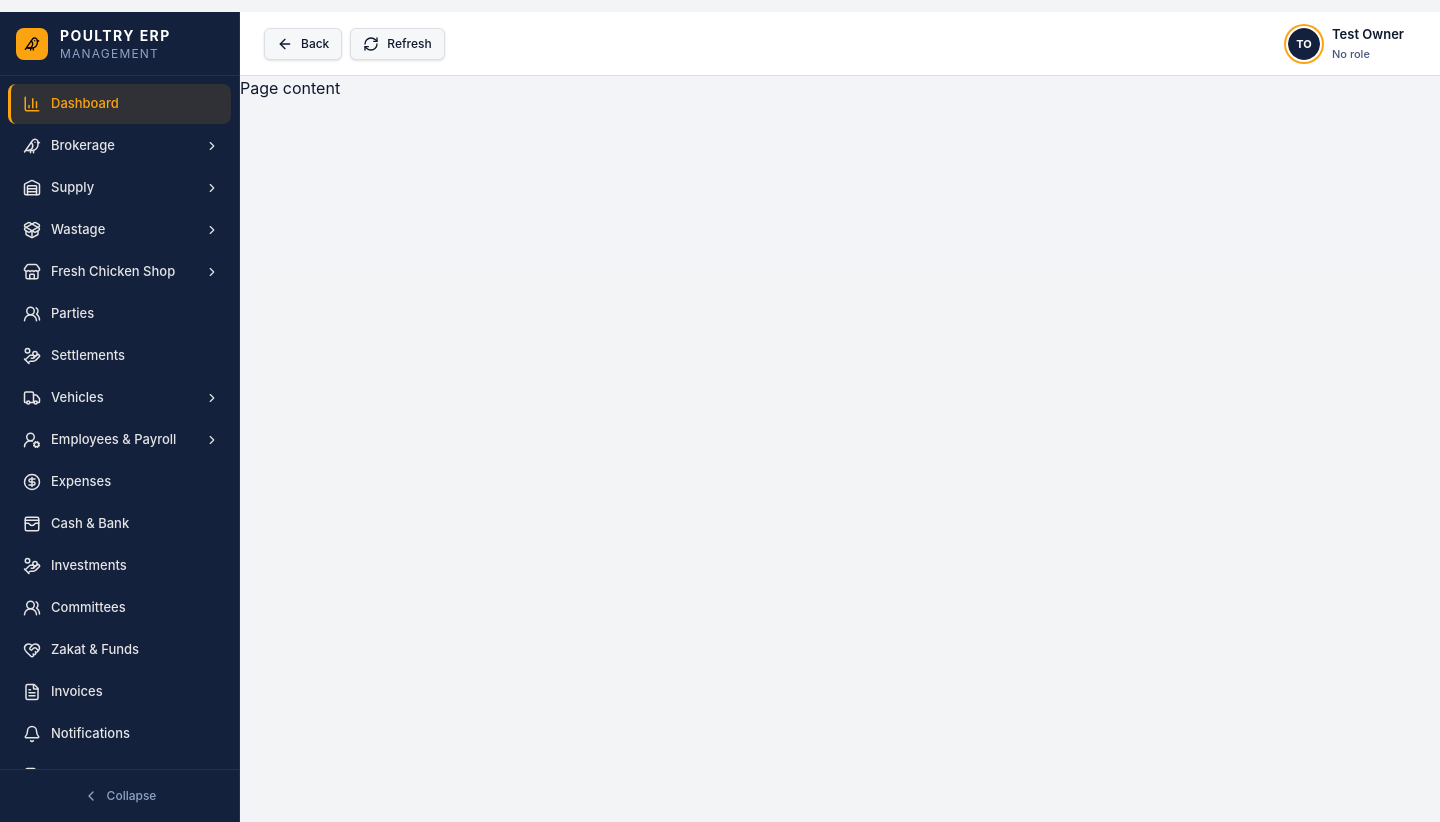
Scenario: AppShell sidebar preference › visibly changes from expanded navigation to the icon-only rail
This screenshot has width=1440, height=822.
Expected: the text "Brokerage" is shown, [51,137,115,153]
Click the button with aria-label "Collapse sidebar" at (120, 796), box [8,778,231,814]
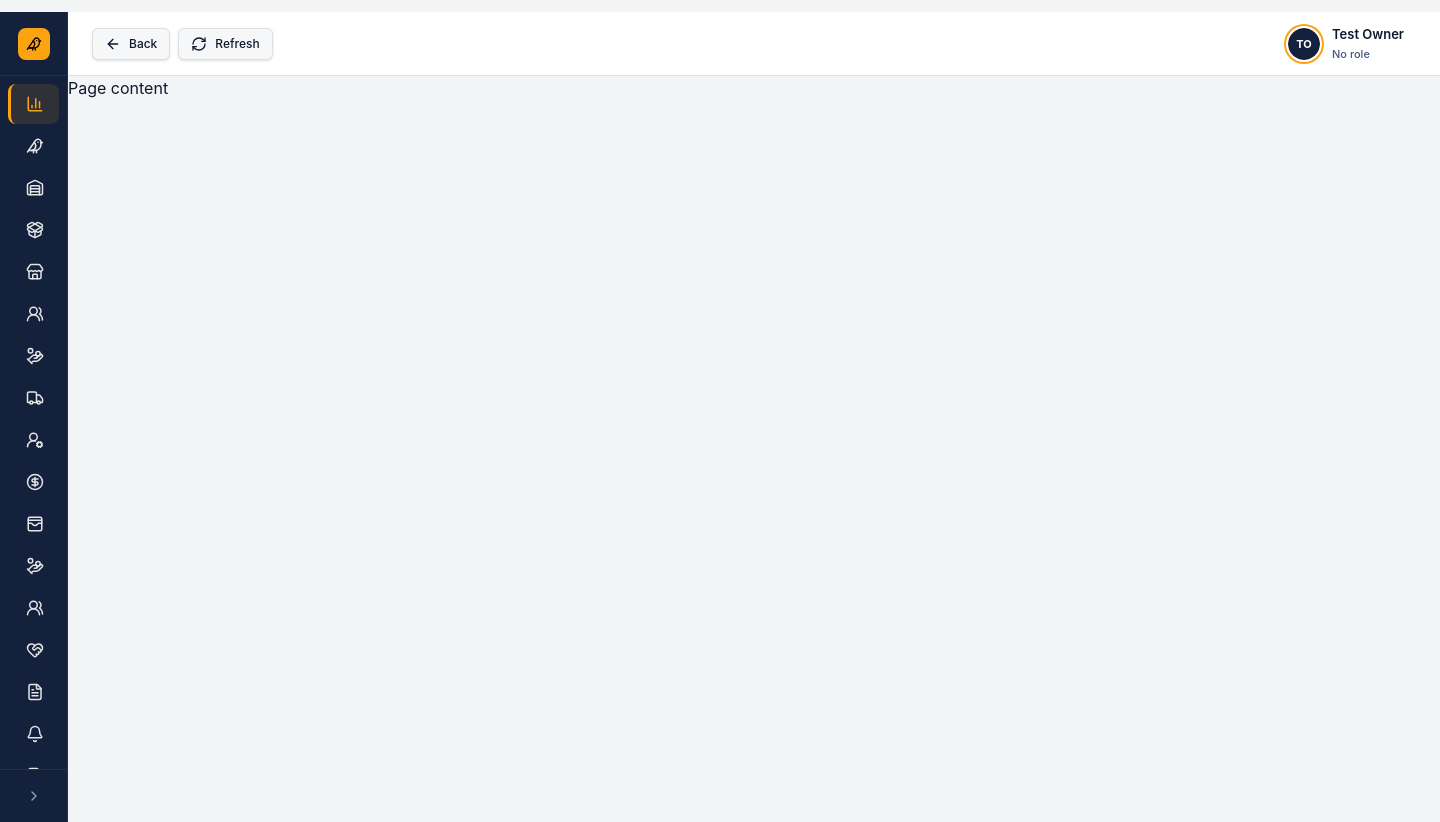
Expected: the button named "Brokerage" is shown, [8,126,59,166]
Result: the text "Brokerage" is gone
